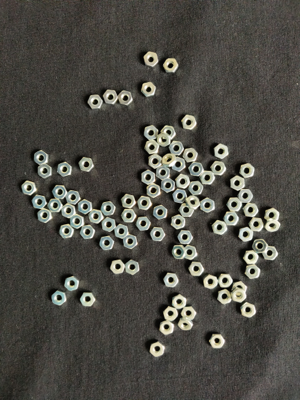nut: (241, 302, 257, 319), (150, 342, 166, 358), (51, 291, 68, 306), (252, 239, 269, 254), (209, 334, 225, 349), (181, 306, 197, 321), (125, 260, 140, 276), (163, 273, 179, 288), (231, 288, 247, 303), (218, 274, 234, 289), (245, 265, 261, 280), (188, 262, 204, 277), (178, 230, 194, 245), (123, 234, 138, 250), (114, 224, 129, 240), (101, 217, 116, 233), (80, 225, 96, 240), (59, 224, 75, 239), (70, 214, 85, 230), (66, 190, 82, 205), (38, 208, 53, 224), (79, 157, 95, 172), (212, 220, 228, 235), (243, 203, 259, 218), (172, 189, 188, 204), (240, 163, 255, 179), (211, 161, 227, 176), (183, 148, 199, 163), (144, 140, 160, 155), (181, 115, 197, 130), (144, 52, 159, 68), (262, 247, 279, 261), (178, 204, 195, 218), (65, 276, 80, 291), (172, 295, 187, 310), (203, 275, 218, 290), (100, 236, 115, 251), (239, 228, 254, 243), (121, 194, 136, 209), (78, 200, 93, 215), (61, 204, 76, 219), (32, 195, 47, 210), (21, 181, 36, 196), (57, 162, 72, 177), (171, 215, 186, 230), (153, 205, 168, 220), (137, 196, 152, 211), (249, 218, 264, 233), (176, 174, 191, 189), (230, 176, 245, 191), (189, 162, 204, 177), (214, 144, 229, 159), (172, 157, 187, 172), (169, 141, 184, 156), (88, 95, 103, 110), (103, 90, 118, 105), (118, 91, 133, 106), (80, 293, 96, 307), (244, 251, 260, 265), (150, 228, 166, 242), (121, 209, 137, 223), (48, 199, 64, 213), (52, 185, 68, 199), (265, 218, 281, 232), (223, 212, 239, 226), (227, 198, 243, 212), (238, 189, 254, 203), (201, 198, 215, 214), (200, 171, 216, 185), (161, 126, 177, 140), (142, 82, 156, 98), (164, 307, 178, 322), (111, 260, 125, 275), (218, 290, 232, 305), (233, 282, 248, 296), (172, 246, 187, 260), (101, 202, 116, 216), (89, 210, 104, 224), (38, 164, 52, 179), (34, 151, 49, 165), (136, 217, 151, 231), (186, 196, 201, 210), (147, 183, 161, 198), (161, 178, 175, 193), (156, 166, 170, 181), (189, 181, 204, 195), (149, 154, 163, 169), (162, 154, 177, 168), (157, 133, 171, 148), (144, 126, 158, 141), (164, 59, 179, 73), (184, 245, 197, 261), (160, 321, 174, 335), (178, 318, 193, 331), (265, 208, 280, 221), (142, 170, 155, 185)
